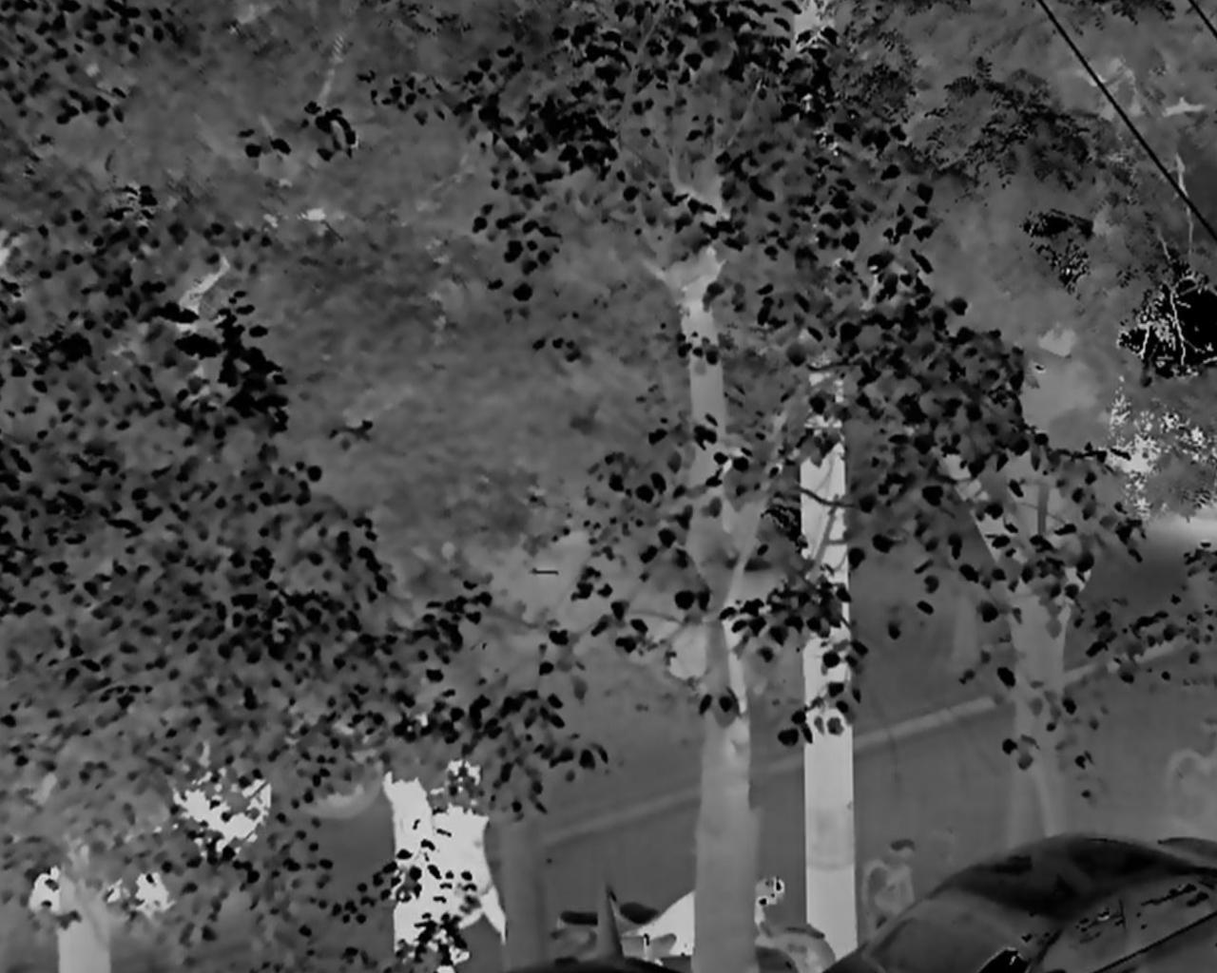person: (434, 758, 506, 946), (382, 759, 447, 953)
